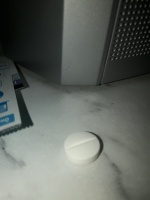Arveles: (62, 130, 103, 166)
